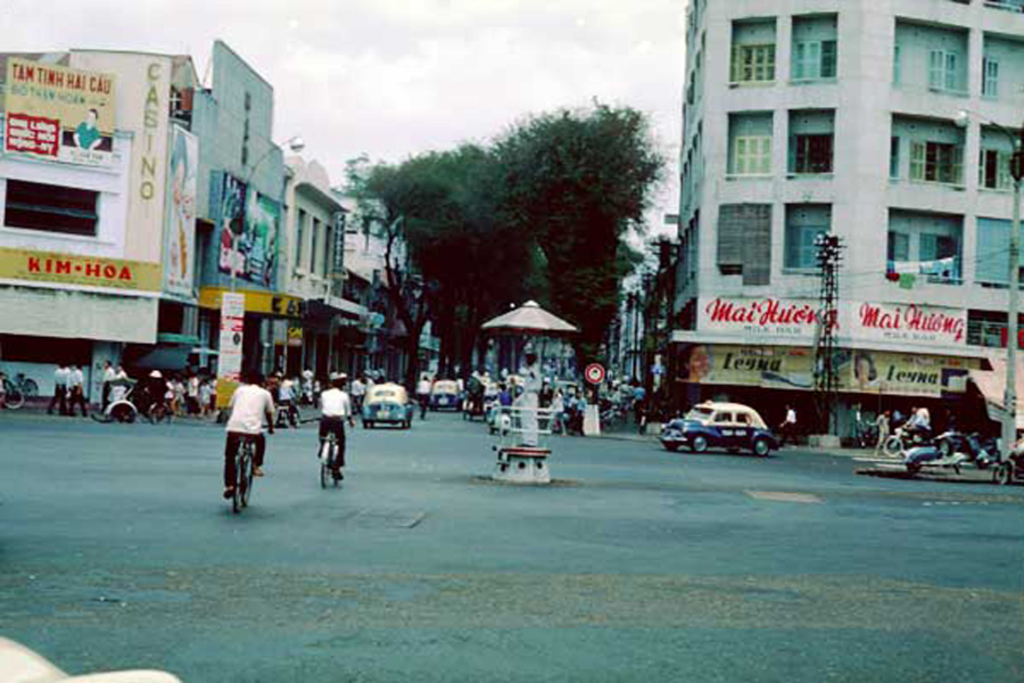Car: (667, 402, 783, 459), (358, 380, 414, 430), (432, 376, 463, 405)
